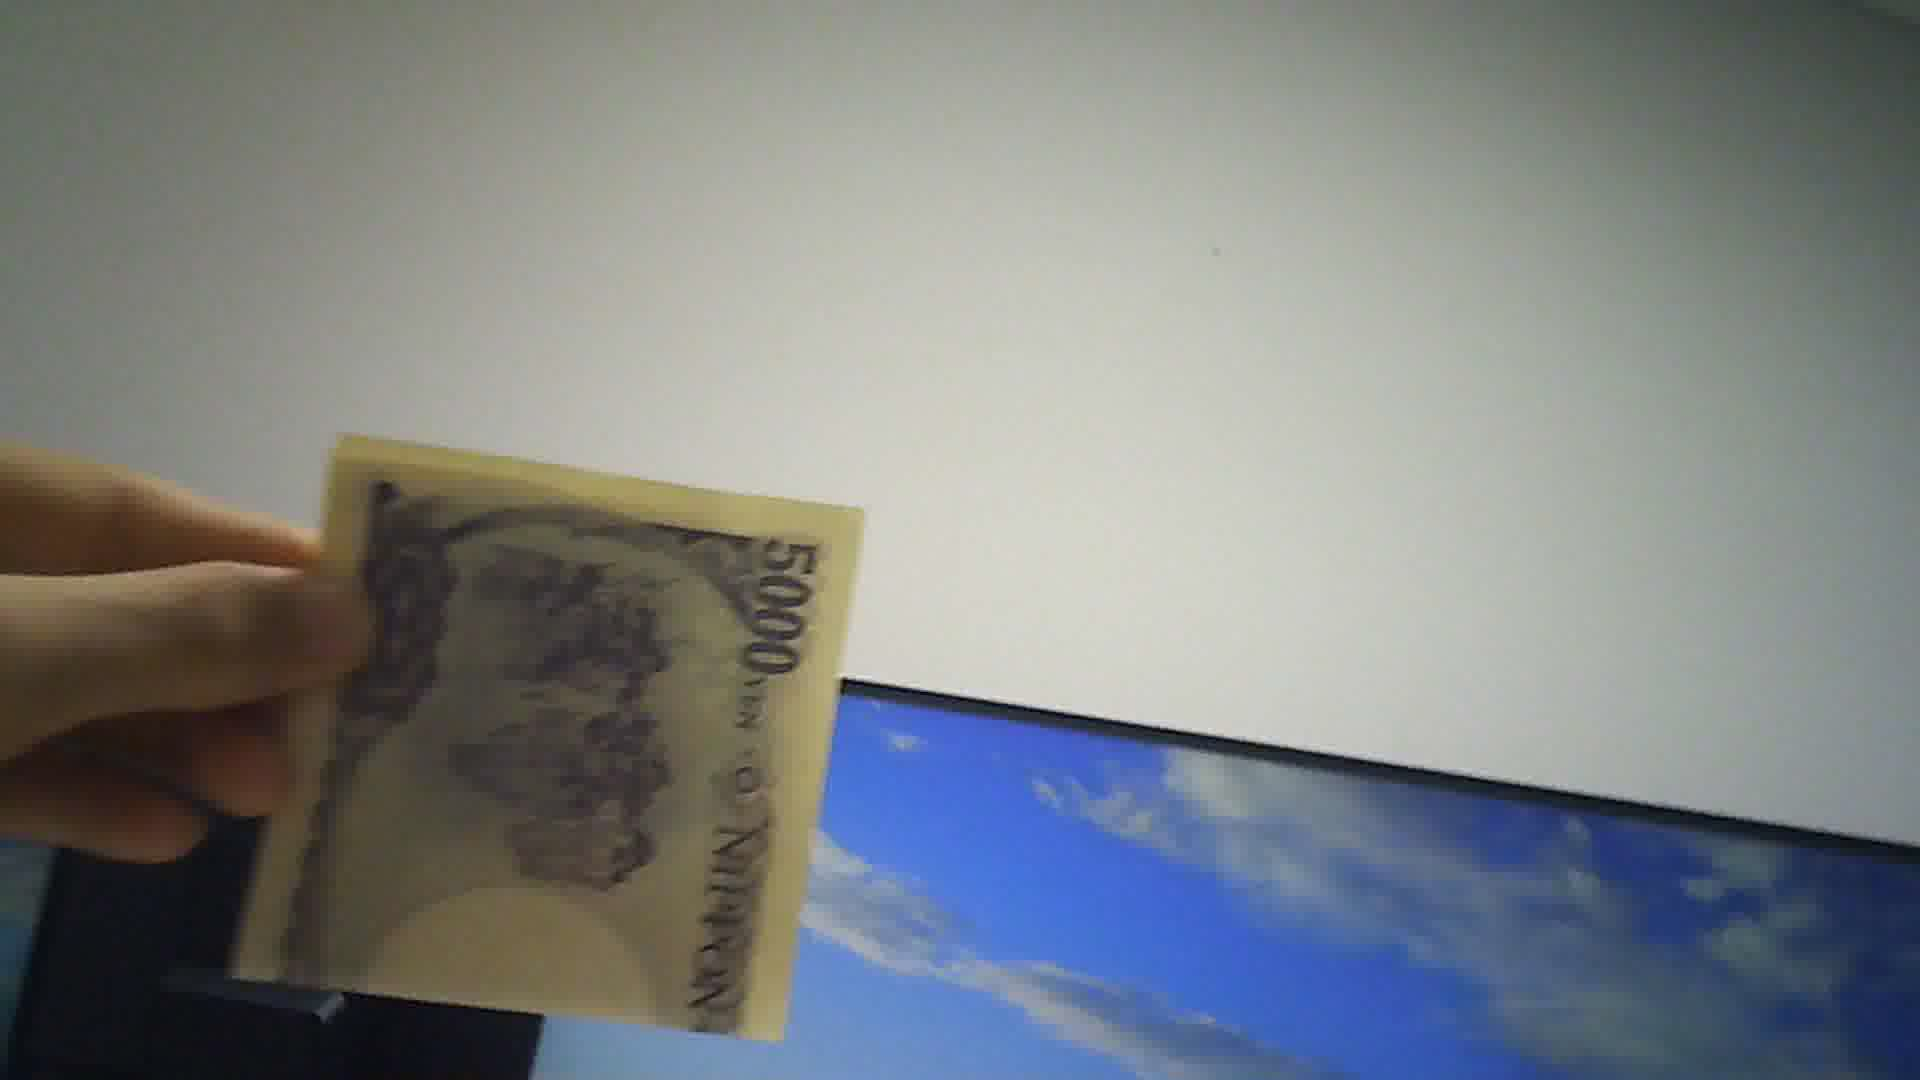5,000 Yen: (228, 400, 861, 1042)
